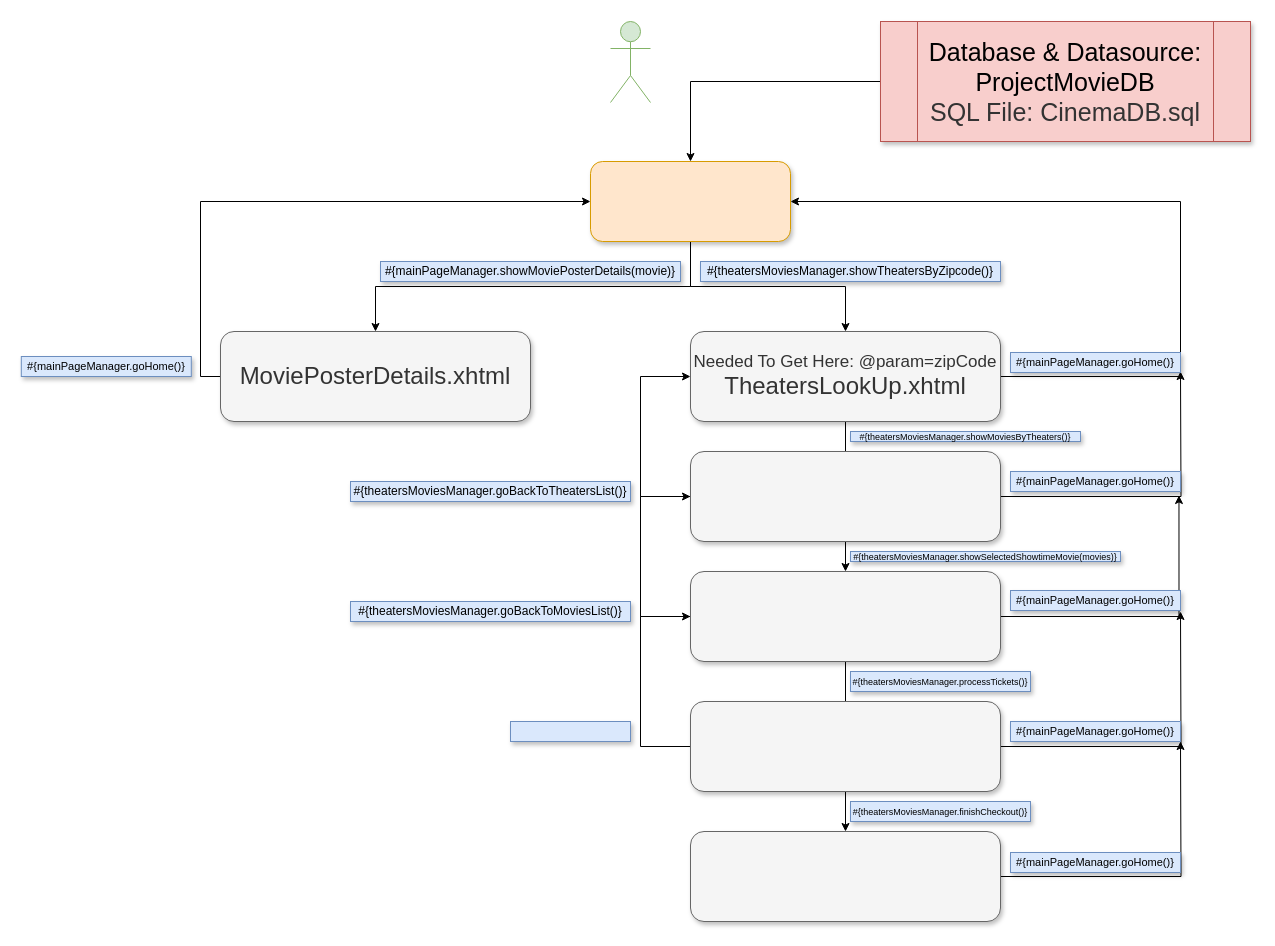
Image size: 1275x946. Some labels were removed from this diagram. Each missing label, with the centre of its shape:
<Browser_Back_Button>: point (571, 732)
Checkout.xhtml: point (846, 747)
Happy User: point (630, 61)
Home.xhtml: point (691, 202)
Needed To Get Here: @param=showtime SelectedShowtime.xhtml: point (846, 617)
Needed To Get Here: @param=theaterName MoviesLookUp.xhtml: point (846, 497)
ThankYou.xhtml: point (846, 877)
